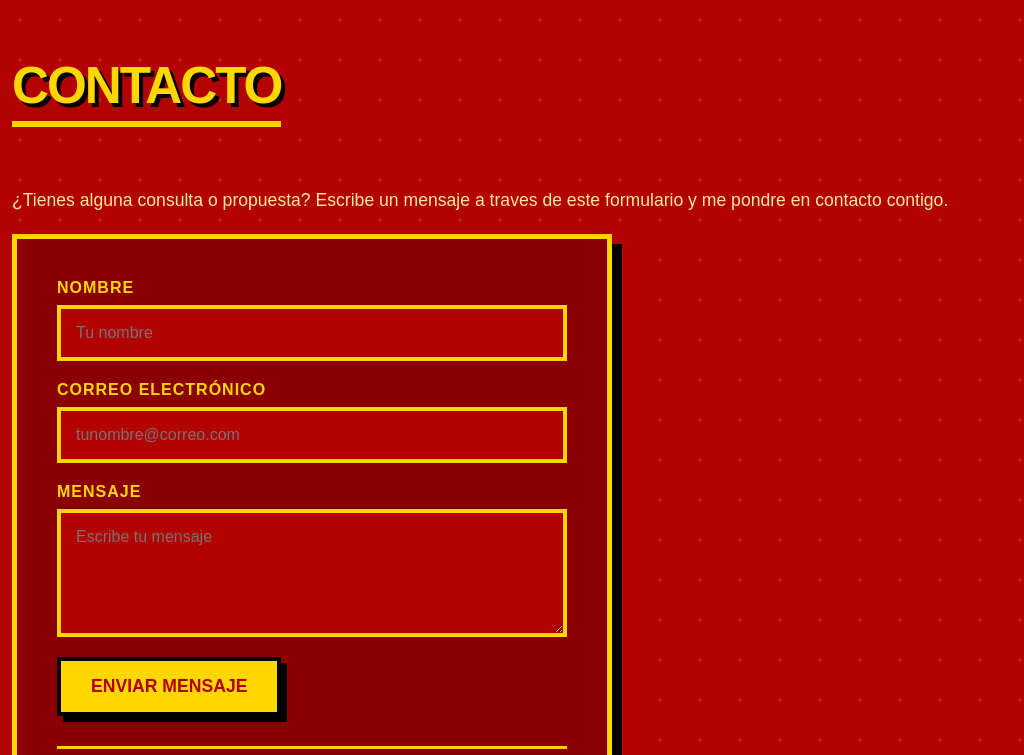
it: Componente Contacto › debe rechazar un correo electrónico inválido
This screenshot has width=1024, height=755.
Type "Diego Valle" into the field labelled "Nombre". click: {"x": 312, "y": 333}
box: [57,305,567,361]
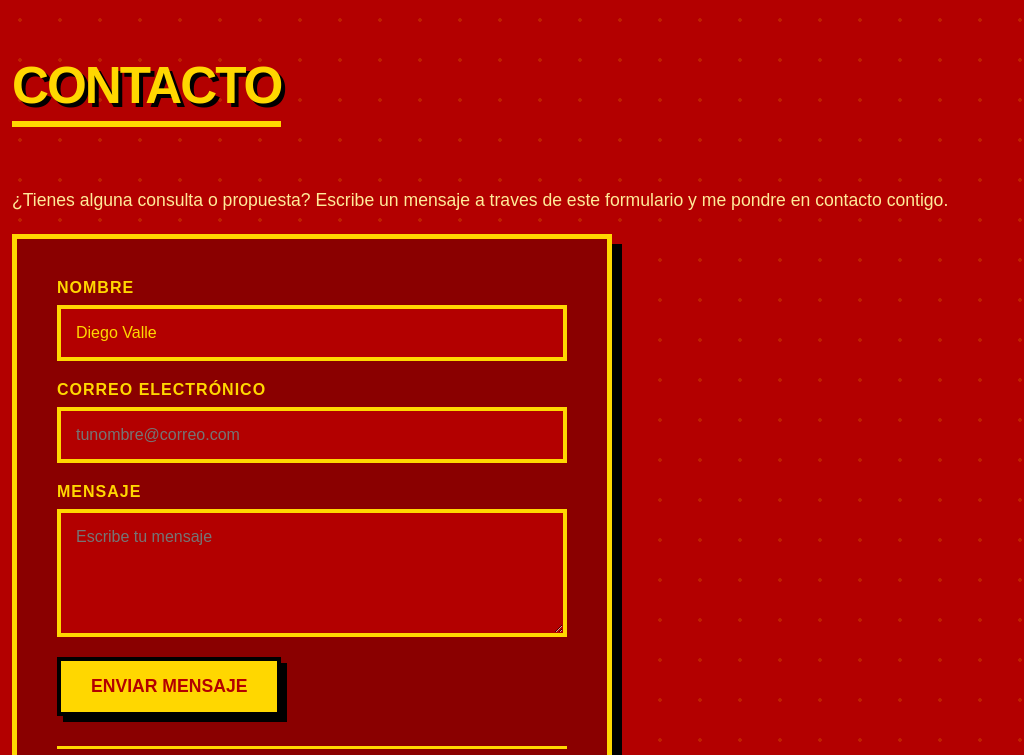
Type "correo-invalido" into the field labelled "Correo electrónico". click: {"x": 312, "y": 435}
box: [57,407,567,463]
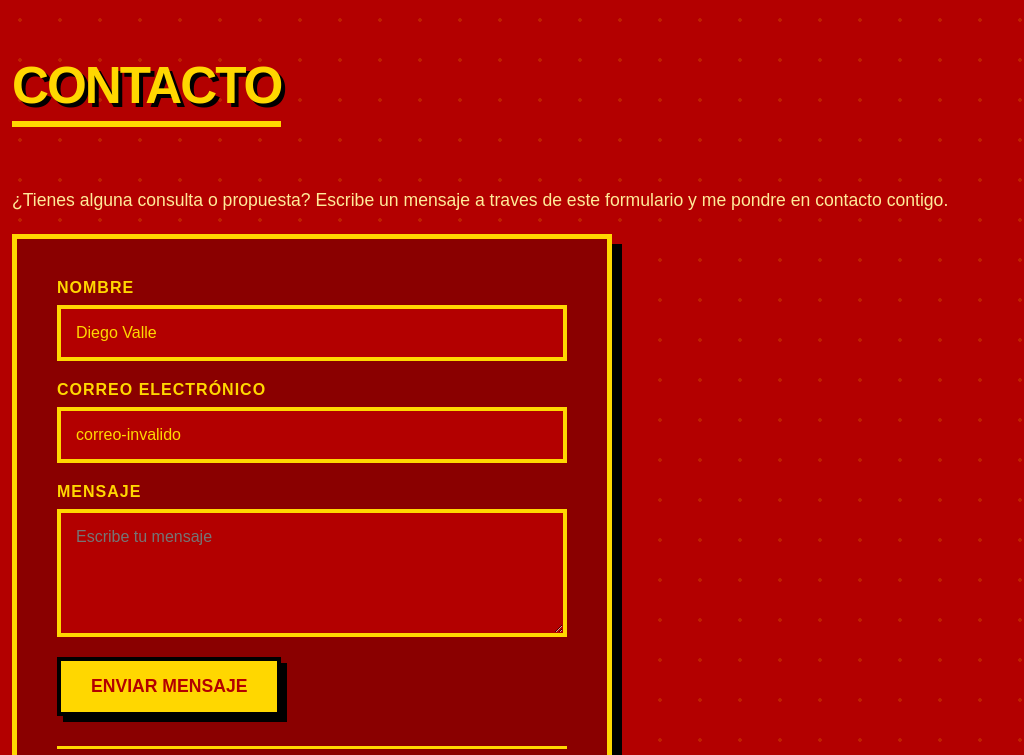
Type "Hola, este es un mensaje de prueba." into the text box labelled "Mensaje". click: {"x": 312, "y": 573}
box: [57,509,567,637]
(page scrolled)
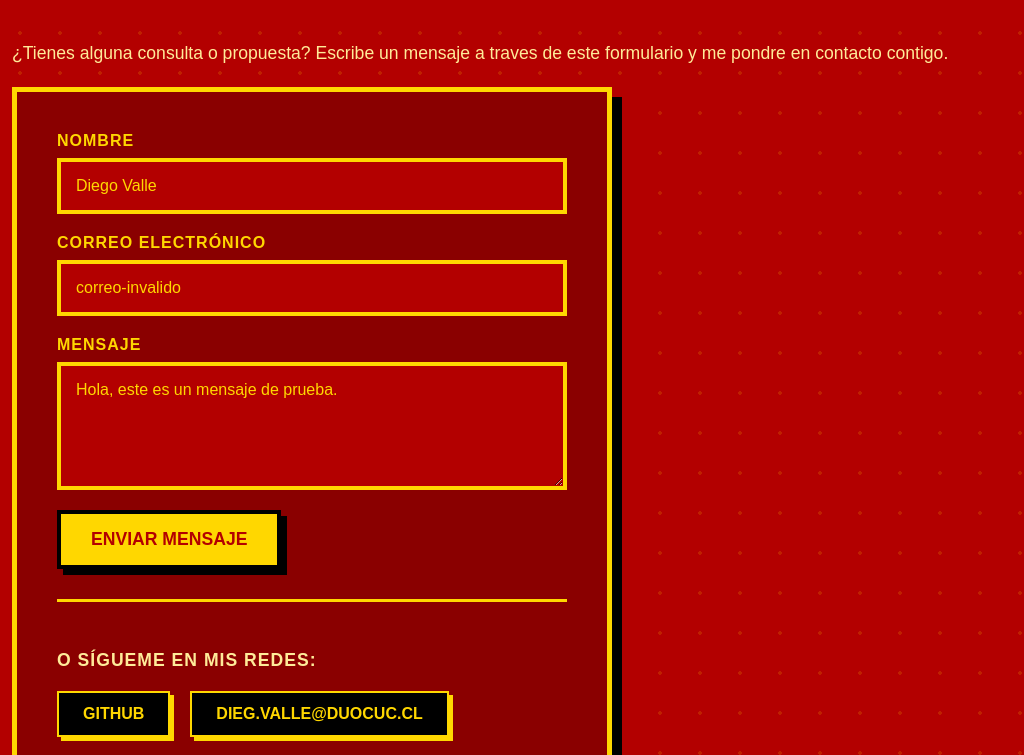
Submit the form labelled "Nombre"
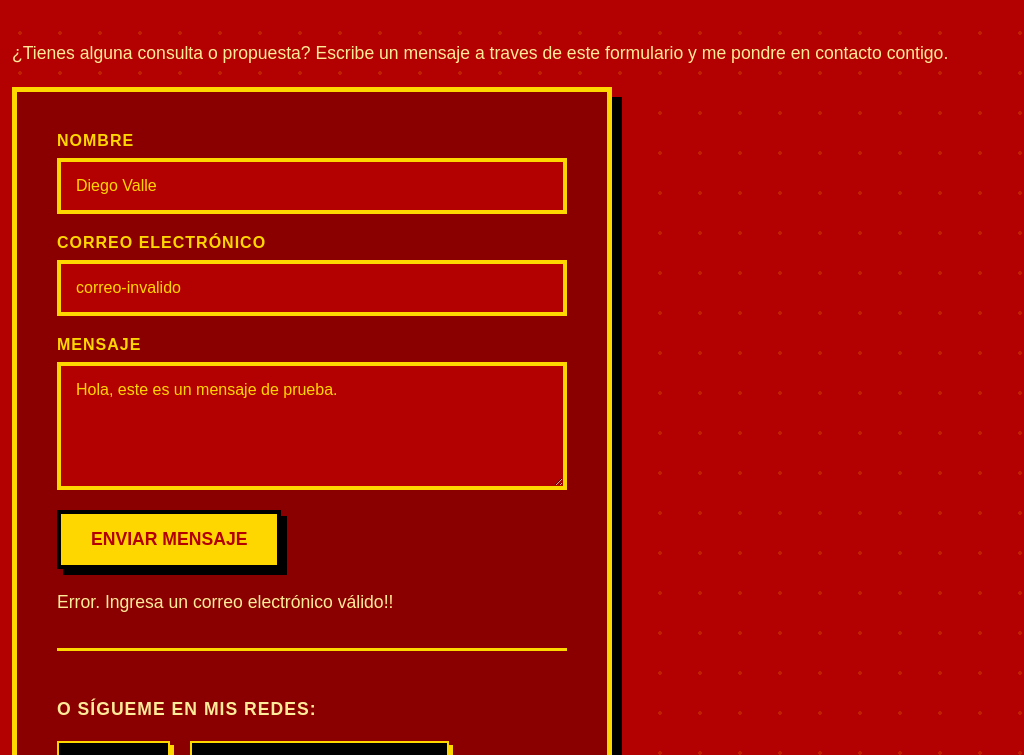
Now the message reads "Error. Ingresa un correo electrónico válido!!", box [57,592,393,612]
